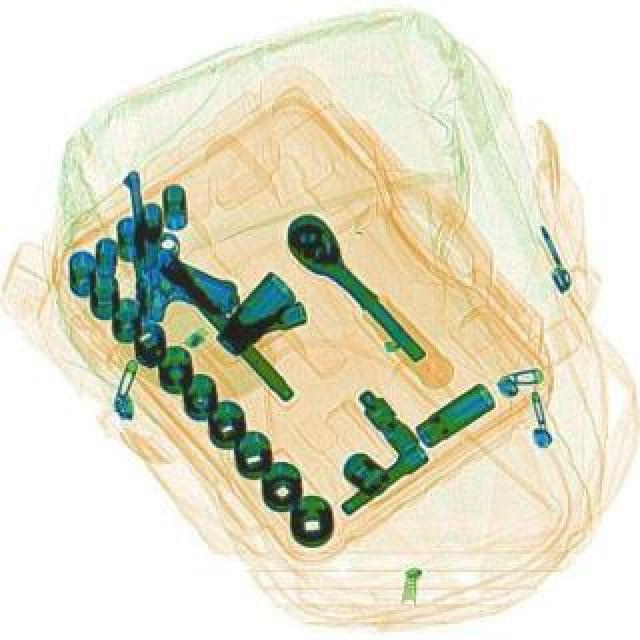gun: (120, 164, 238, 322)
